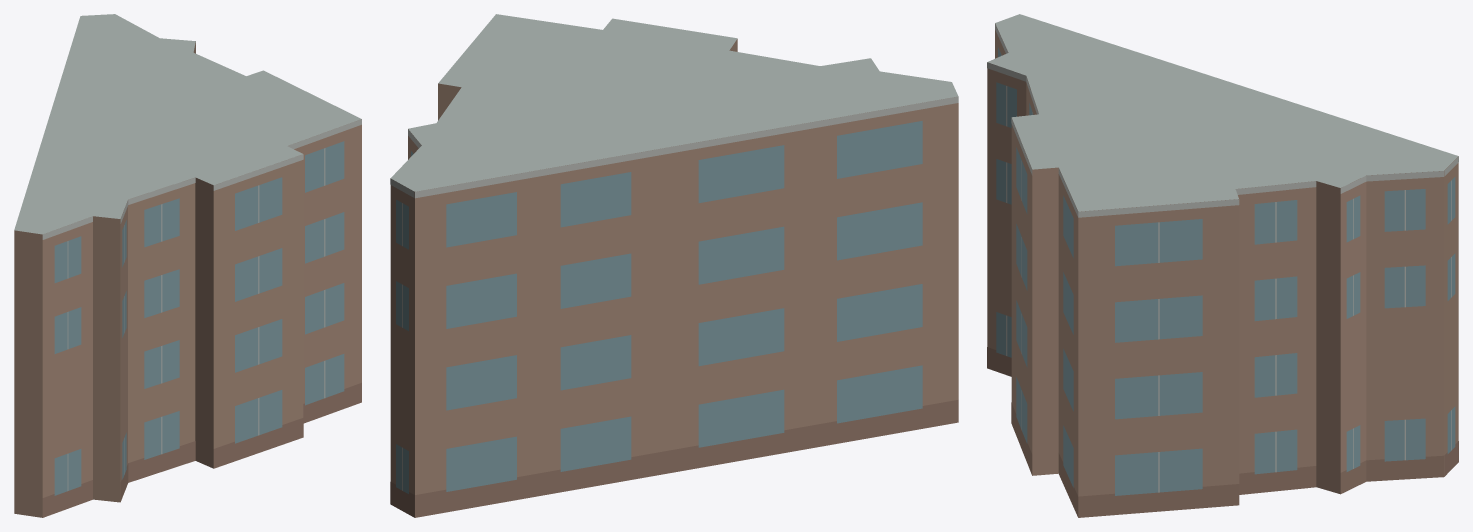
Rendered from survey-upis-32708474.glb.
The picture shows the model from 3 angles, left to right: view 1: azimuth 30°, elevation 25°; view 2: azimuth 150°, elevation 25°; view 3: azimuth 270°, elevation 25°; orthographic projection. The views are drawn at different scales.
Parts seen in each view (by area): view 1: survey-upis-32708474.tmp; view 2: survey-upis-32708474.tmp; view 3: survey-upis-32708474.tmp.
Part boxes in pixels (x1,y1,x2,y2): survey-upis-32708474.tmp: (14, 14, 361, 517); survey-upis-32708474.tmp: (390, 14, 958, 517); survey-upis-32708474.tmp: (987, 14, 1458, 517).
Bounding box in the file's own units: 16.9 × 12.2 × 17.03.
